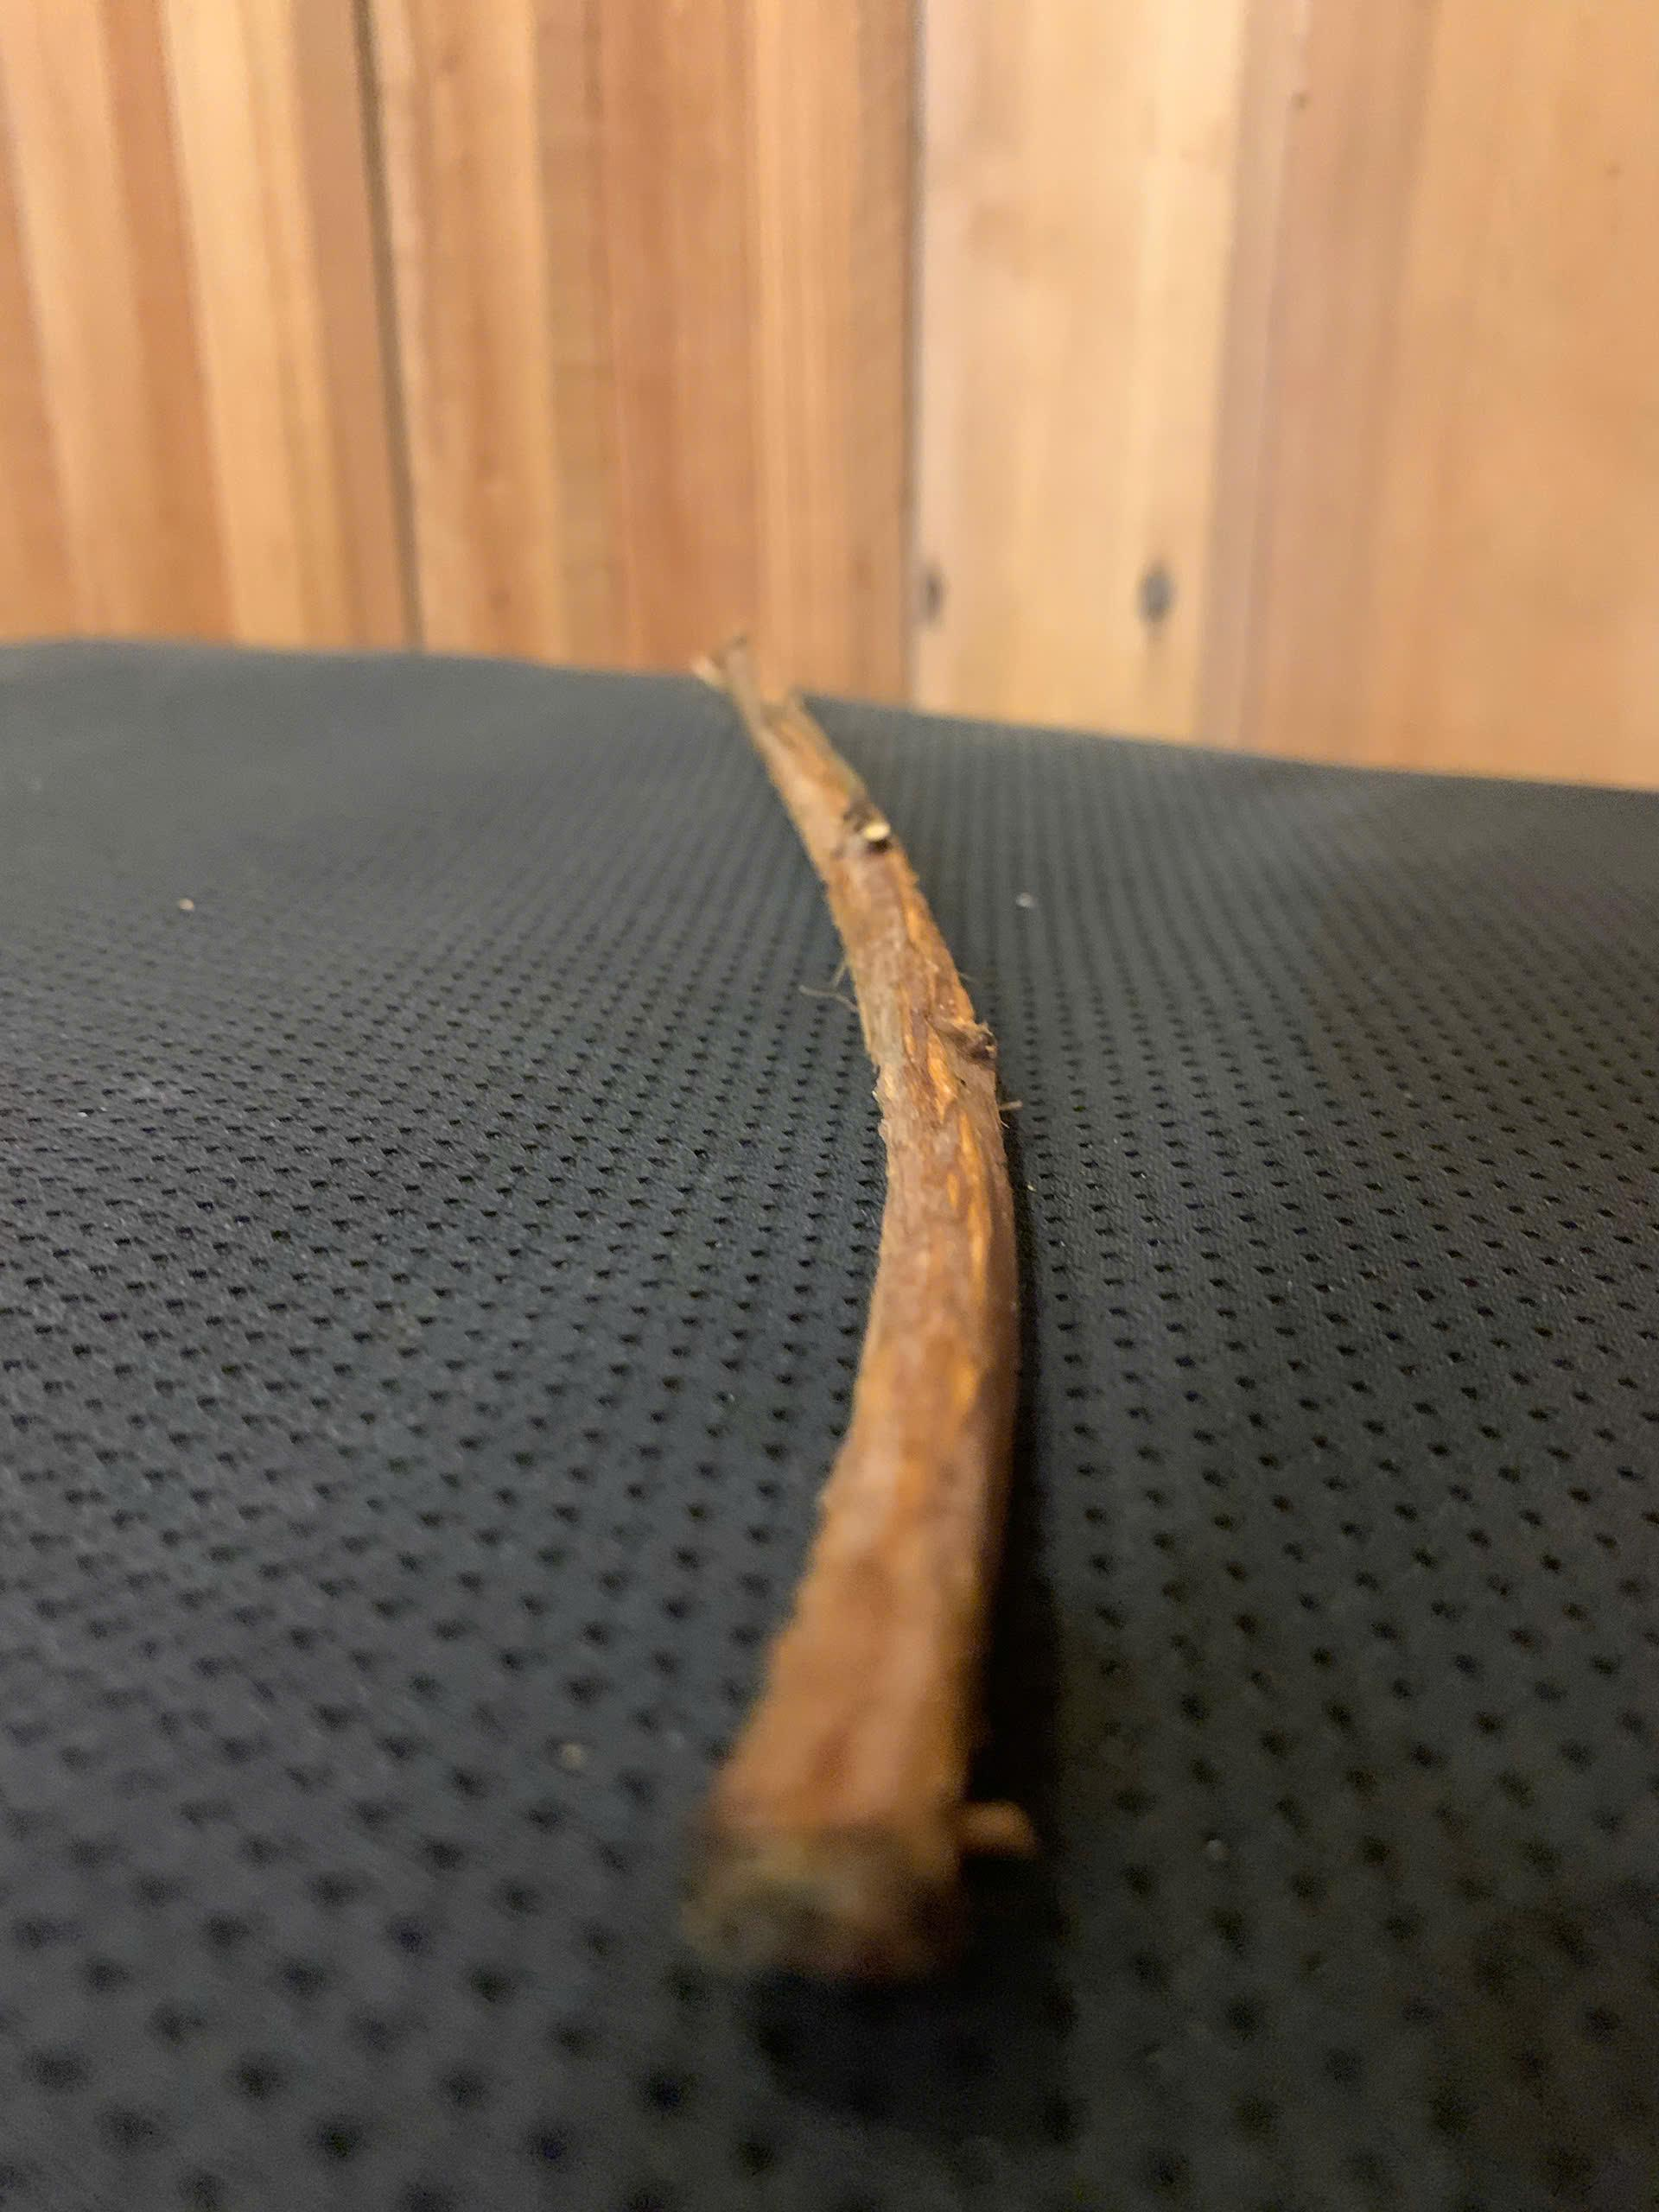Huu co: (674, 641, 1033, 1968)
